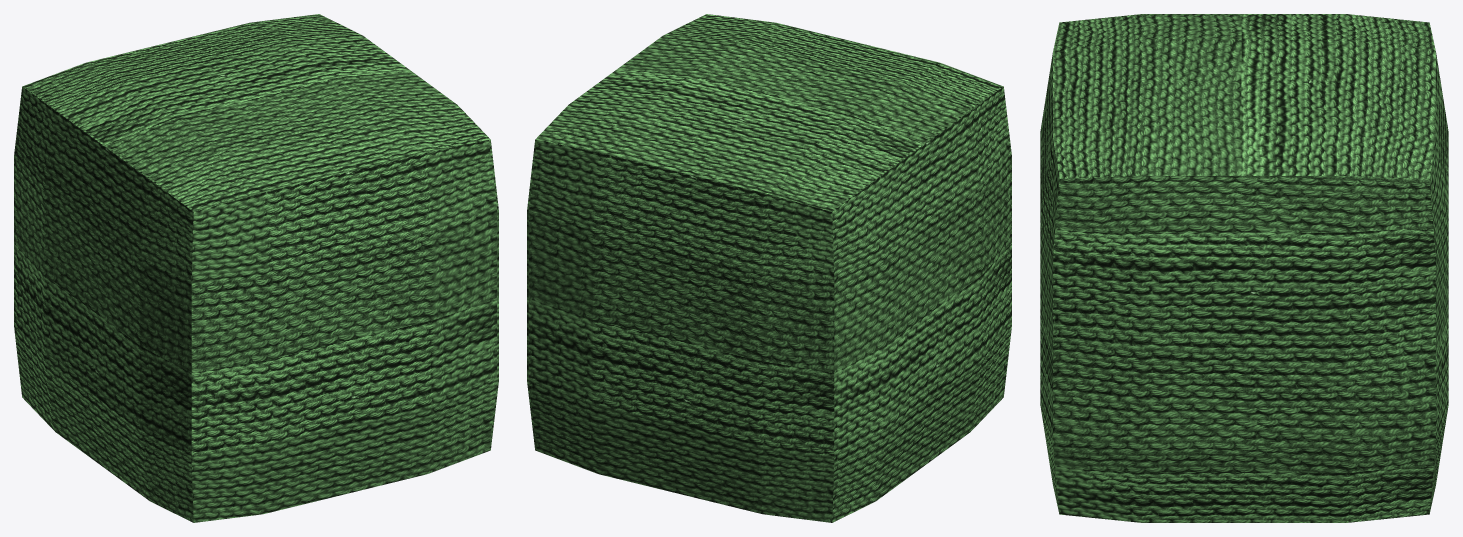
The model's file is woolBlock.fbx.
The picture shows the model from 3 angles, left to right: view 1: azimuth 30°, elevation 25°; view 2: azimuth 150°, elevation 25°; view 3: azimuth 270°, elevation 25°; orthographic projection. The views are drawn at different scales.
Visible parts, largest first — view 1: Cube; view 2: Cube; view 3: Cube.
Boxes of the visible parts, x1,y1,x2,y2 form: Cube: (14,14,498,522); Cube: (527,14,1011,522); Cube: (1040,14,1448,522).
Size of the model in its own units: 1 by 1 by 1.
1 material, 1 textured.
